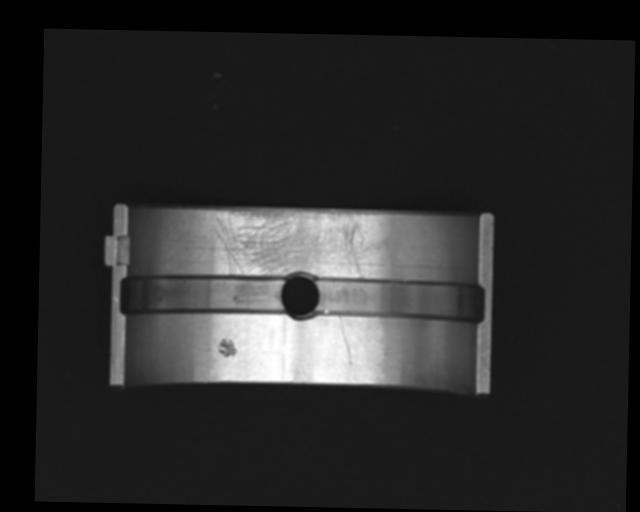bruise: (216, 336, 237, 358)
gap: (314, 277, 484, 322), (119, 274, 286, 316)
hole: (279, 272, 321, 319)
nick: (336, 315, 352, 366)
scratch: (213, 208, 383, 279)
